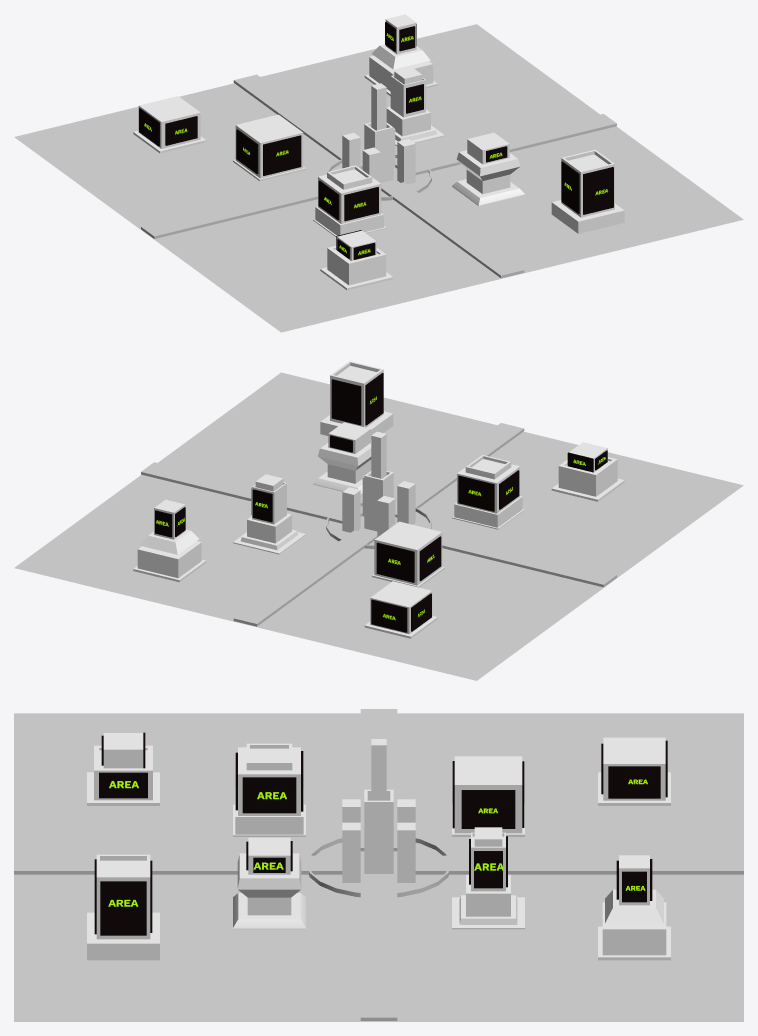
The picture shows the model from 3 angles, top to bottom: view 1: azimuth 30°, elevation 25°; view 2: azimuth 150°, elevation 25°; view 3: azimuth 270°, elevation 25°; orthographic projection. The views are drawn at different scales.
Visible parts, largest first — view 1: Floor, Building, Billboard; view 2: Floor, Building, Billboard; view 3: Floor, Building, Billboard.
Part boxes in pixels (x1=…): Floor: x1=14, y1=24, x2=743, y2=332; Building: x1=133, y1=14, x2=624, y2=290; Billboard: x1=139, y1=22, x2=613, y2=259; Floor: x1=14, y1=372, x2=743, y2=680; Building: x1=133, y1=361, x2=624, y2=638; Billboard: x1=155, y1=373, x2=607, y2=632; Floor: x1=14, y1=709, x2=743, y2=1021; Building: x1=87, y1=733, x2=670, y2=960; Billboard: x1=94, y1=732, x2=667, y2=935.
Size of the model in its own units: 10.02 by 1.93 by 10.02.
3 materials, 1 textured.
